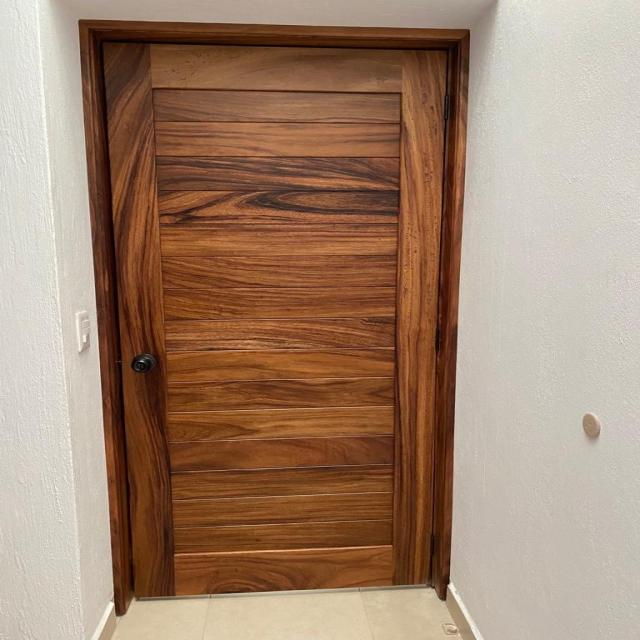door: (82, 20, 466, 602)
